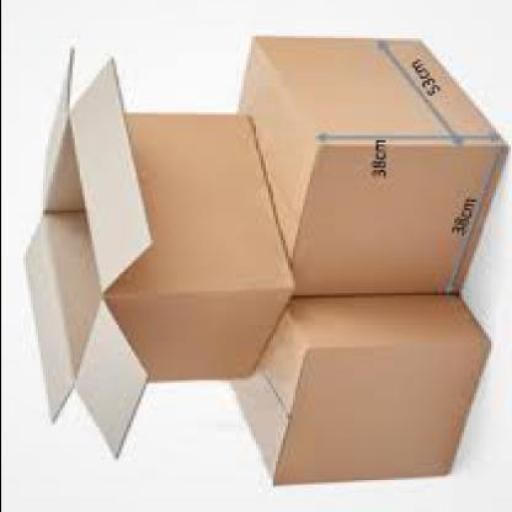cardboard: (17, 51, 289, 463), (235, 38, 502, 299), (226, 297, 488, 487)
